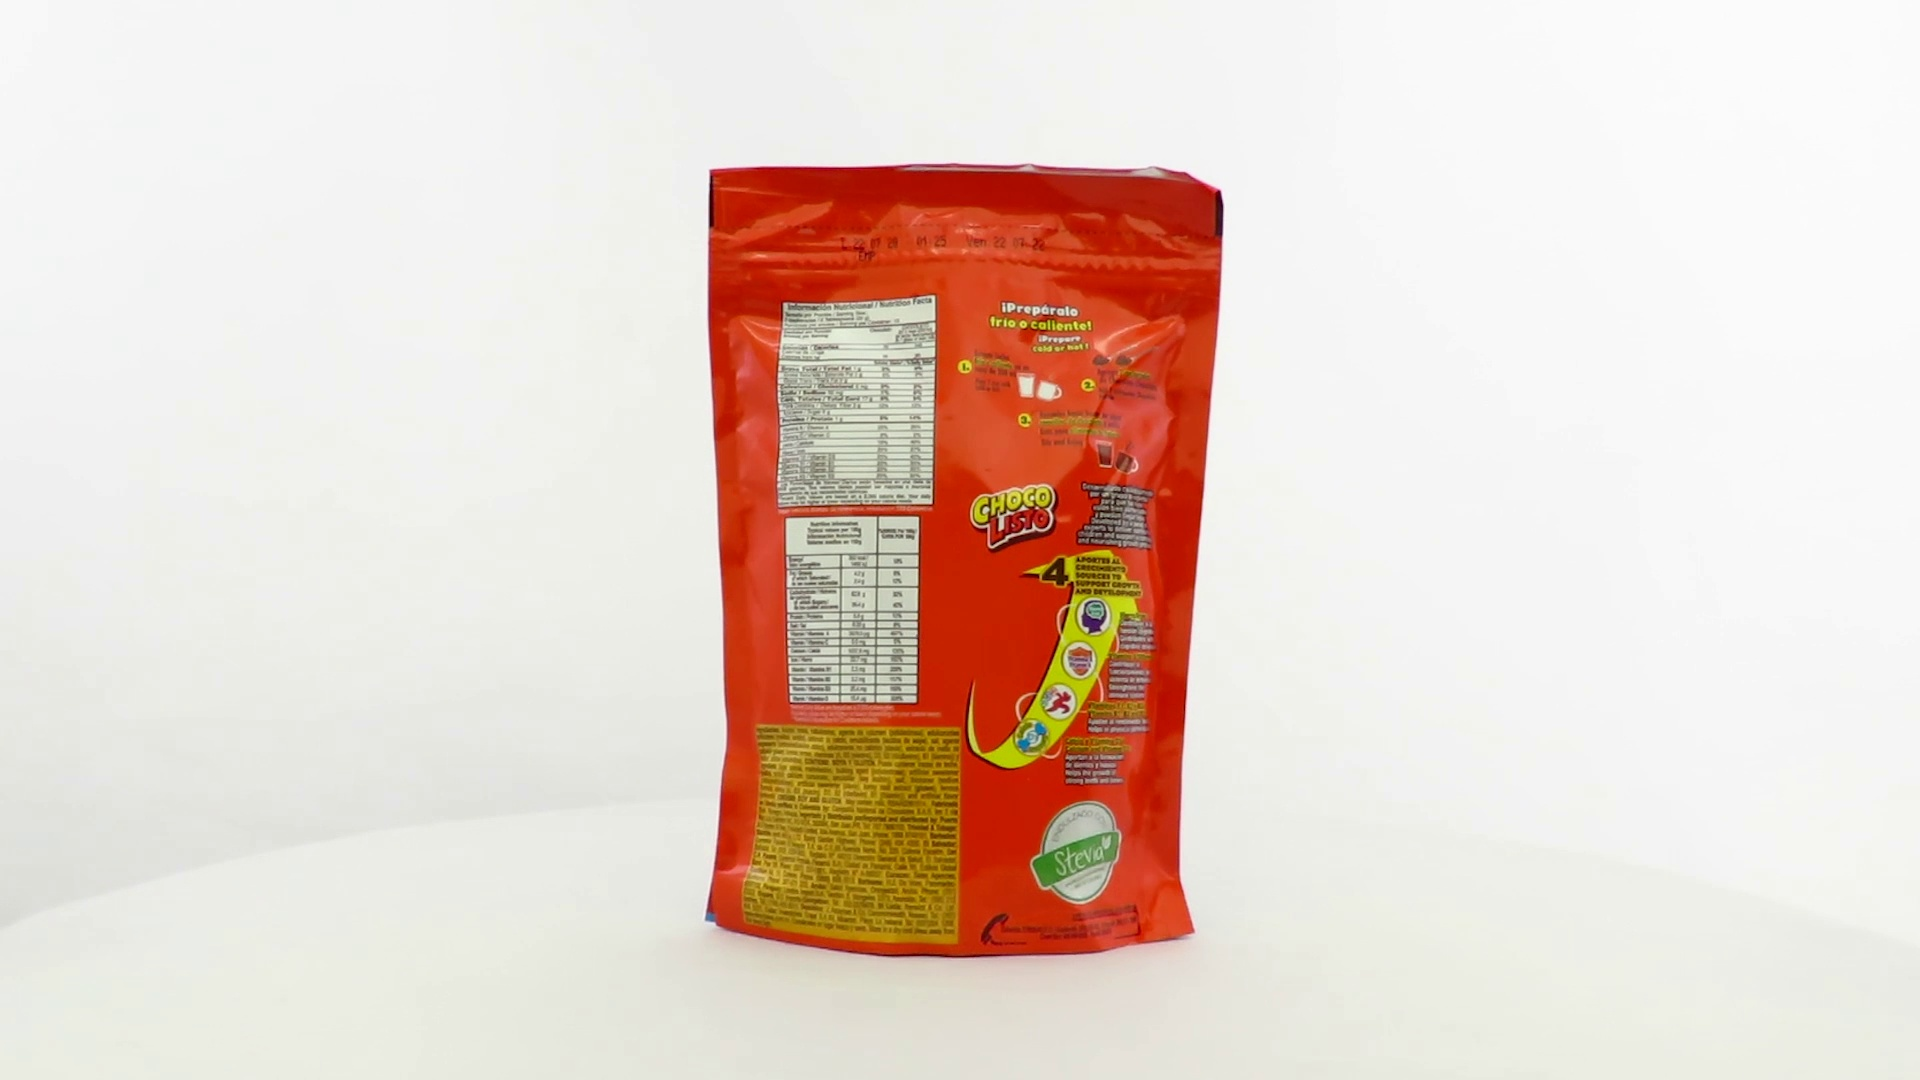COL0170104DYP20000: (700, 158, 1230, 964)
